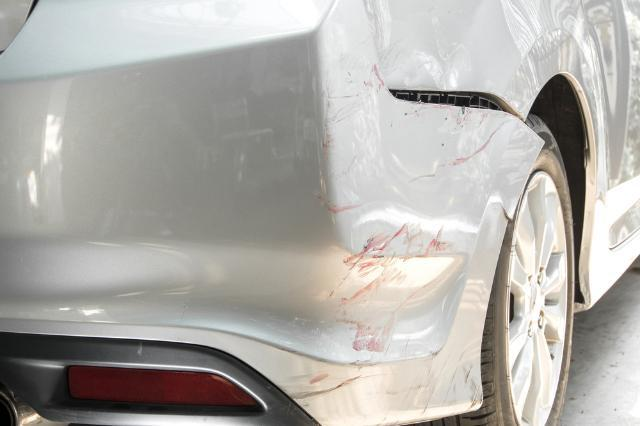crack: (502, 206, 513, 221)
dislocated part: (326, 89, 546, 426)
scratch: (291, 222, 488, 424), (310, 60, 511, 220)
